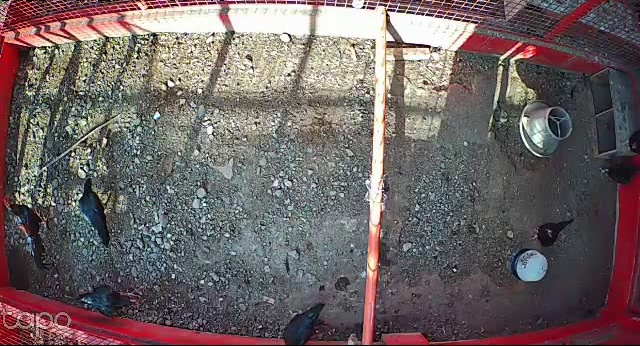Chicken: (76, 176, 111, 248), (79, 284, 141, 318), (600, 152, 640, 197), (281, 306, 325, 346), (530, 217, 578, 249)
Drinker: (512, 248, 549, 283)
Feeder: (519, 100, 574, 159)
Rooster: (3, 196, 51, 273)
